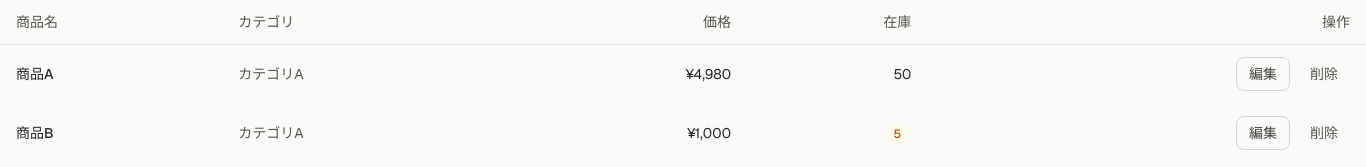
Test case: AdminProductTable › shows delete confirmation on delete click
Click the button "削除" in the row of "商品A".
click(1324, 74)  # box [1298,58,1350,90]
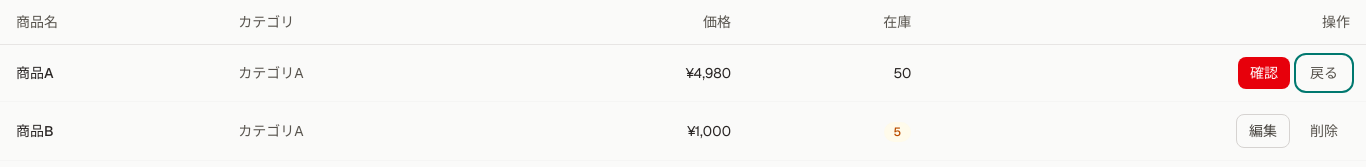
Expected: the button "確認" is shown, [1238,57,1290,89]
Expected: the button "戻る" is shown, [1298,57,1350,89]
